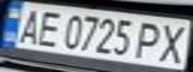0: (57, 11, 84, 51)
2: (93, 15, 118, 56)
5: (112, 16, 139, 57)
7: (78, 12, 100, 53)
A: (12, 6, 45, 45)
E: (30, 8, 66, 47)
P: (133, 19, 166, 61)
X: (151, 20, 193, 64)
